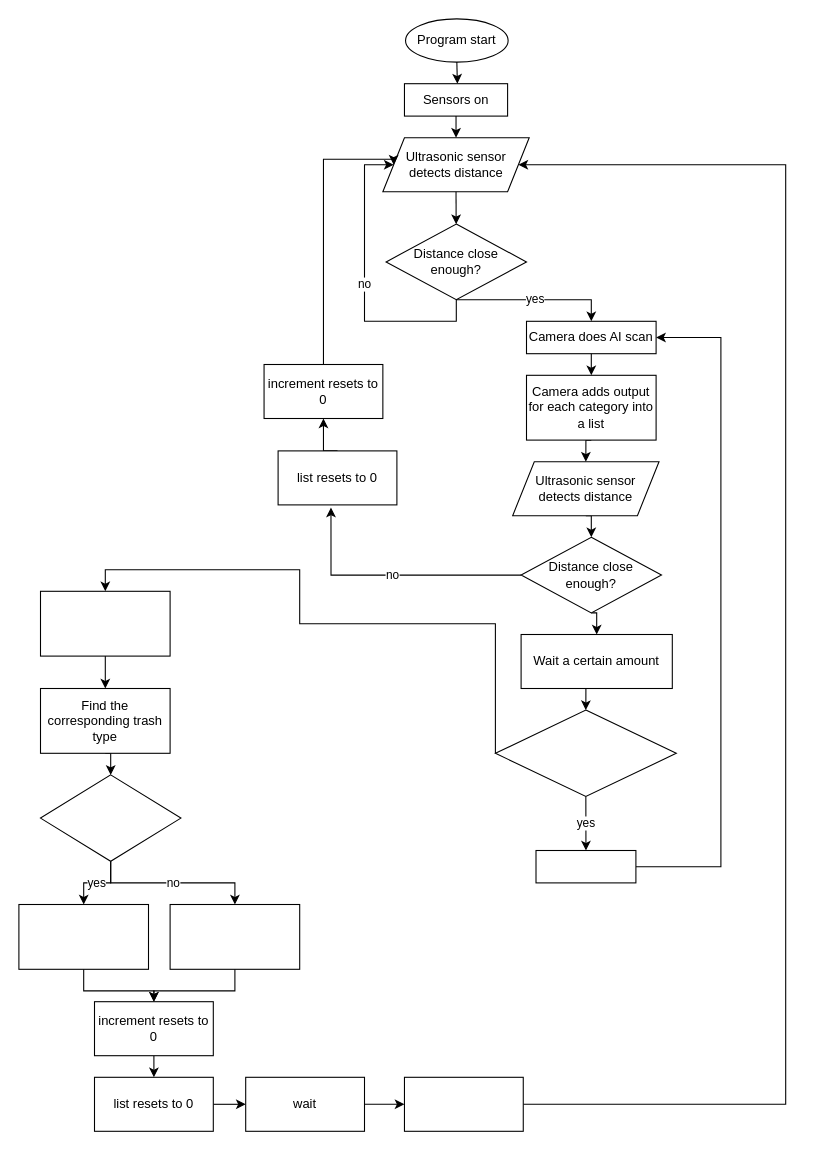
The diagram is 813 pixels wide and 1150 high, and some of its shapes have lost their labels. The shapes that lost their labels are listed below. From the top down, each one's box as (x1, y1, x2, y2) in pixels, then its label:
(39, 590, 170, 656): Find the largest number in the list
(494, 709, 676, 796): Increment is less than a number?
(39, 774, 181, 861): Can the trash be recycled?
(535, 849, 636, 883): Increment
(18, 903, 148, 969): Open the recycle bin
(169, 903, 300, 969): Open the trash bin
(403, 1076, 523, 1131): close both cans
